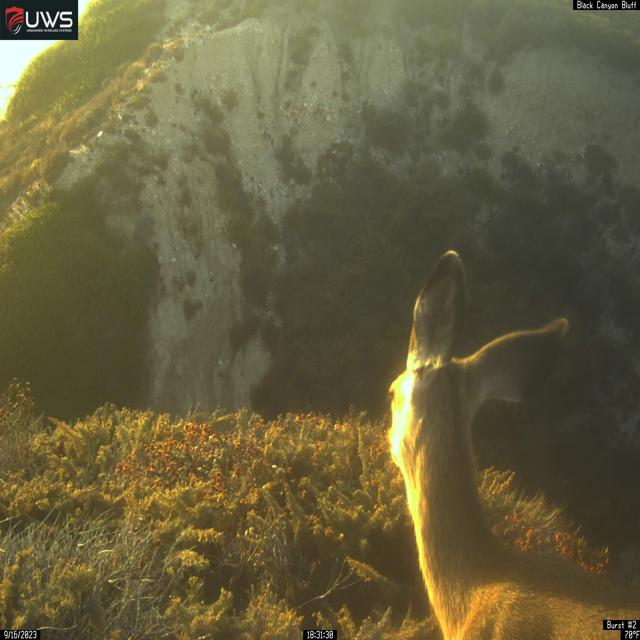deer: (386, 249, 640, 640)
